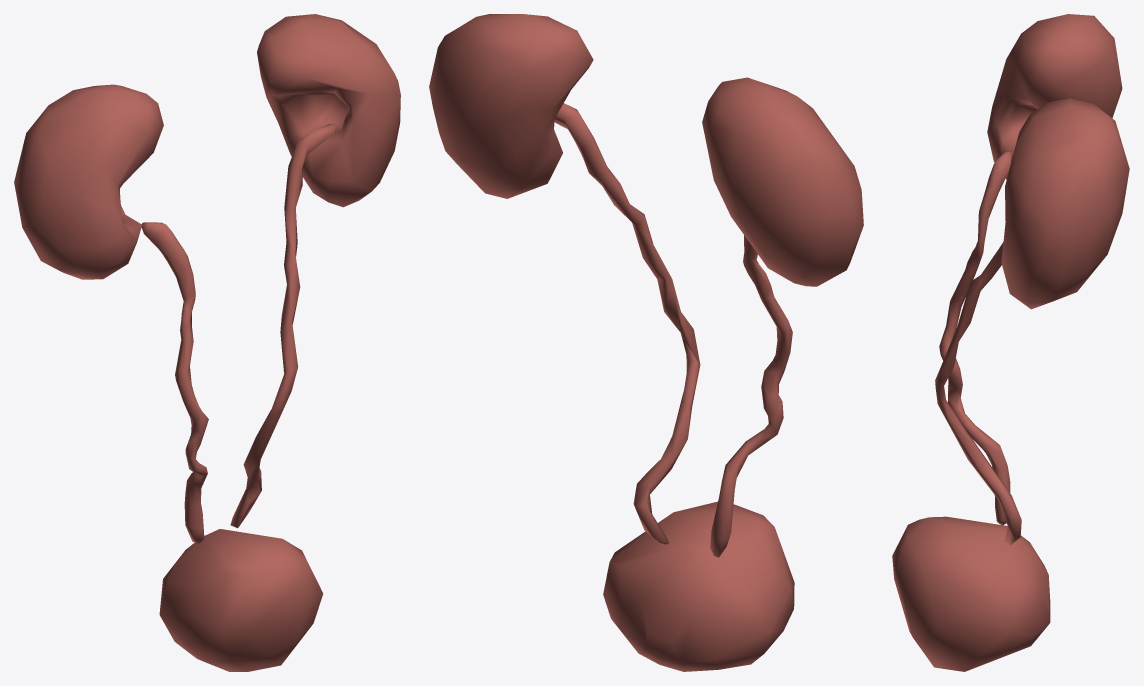
The model's file is icrp_adult_male.urinary.LOD2.glb.
3 views of the same model, side by side, from view 1: azimuth 30°, elevation 25°; view 2: azimuth 150°, elevation 25°; view 3: azimuth 270°, elevation 25° (orthographic). The views are drawn at different scales.
Parts seen in each view (by area): view 1: ICRP.ADULT.MALE.URINARY.KIDNEY_CORTEX.R, ICRP.ADULT.MALE.URINARY.KIDNEY_CORTEX.L, ICRP.ADULT.MALE.URINARY.URINARY_BLADDER_WALL, ICRP.ADULT.MALE.URINARY.URETER.L, ICRP.ADULT.MALE.URINARY.URETER.R; view 2: ICRP.ADULT.MALE.URINARY.URINARY_BLADDER_WALL, ICRP.ADULT.MALE.URINARY.KIDNEY_CORTEX.R, ICRP.ADULT.MALE.URINARY.KIDNEY_CORTEX.L, ICRP.ADULT.MALE.URINARY.URETER.L, ICRP.ADULT.MALE.URINARY.URETER.R; view 3: ICRP.ADULT.MALE.URINARY.KIDNEY_CORTEX.L, ICRP.ADULT.MALE.URINARY.URINARY_BLADDER_WALL, ICRP.ADULT.MALE.URINARY.KIDNEY_CORTEX.R, ICRP.ADULT.MALE.URINARY.URETER.R, ICRP.ADULT.MALE.URINARY.URETER.L.
Boxes of the visible parts, x1,y1,x2,y2 form: ICRP.ADULT.MALE.URINARY.KIDNEY_CORTEX.R: (14, 84, 163, 279); ICRP.ADULT.MALE.URINARY.KIDNEY_CORTEX.L: (257, 14, 400, 207); ICRP.ADULT.MALE.URINARY.URINARY_BLADDER_WALL: (159, 529, 323, 671); ICRP.ADULT.MALE.URINARY.URETER.L: (230, 123, 335, 528); ICRP.ADULT.MALE.URINARY.URETER.R: (141, 222, 208, 544); ICRP.ADULT.MALE.URINARY.URINARY_BLADDER_WALL: (603, 501, 794, 671); ICRP.ADULT.MALE.URINARY.KIDNEY_CORTEX.R: (702, 77, 863, 286); ICRP.ADULT.MALE.URINARY.KIDNEY_CORTEX.L: (429, 14, 593, 198); ICRP.ADULT.MALE.URINARY.URETER.L: (554, 103, 700, 545); ICRP.ADULT.MALE.URINARY.URETER.R: (710, 235, 792, 557); ICRP.ADULT.MALE.URINARY.KIDNEY_CORTEX.L: (1001, 98, 1129, 309); ICRP.ADULT.MALE.URINARY.URINARY_BLADDER_WALL: (892, 516, 1050, 671); ICRP.ADULT.MALE.URINARY.KIDNEY_CORTEX.R: (987, 14, 1122, 179); ICRP.ADULT.MALE.URINARY.URETER.R: (939, 151, 1011, 525); ICRP.ADULT.MALE.URINARY.URETER.L: (935, 242, 1021, 545).
Bounding box in the file's own units: 0.2197 × 0.3283 × 0.1157.
